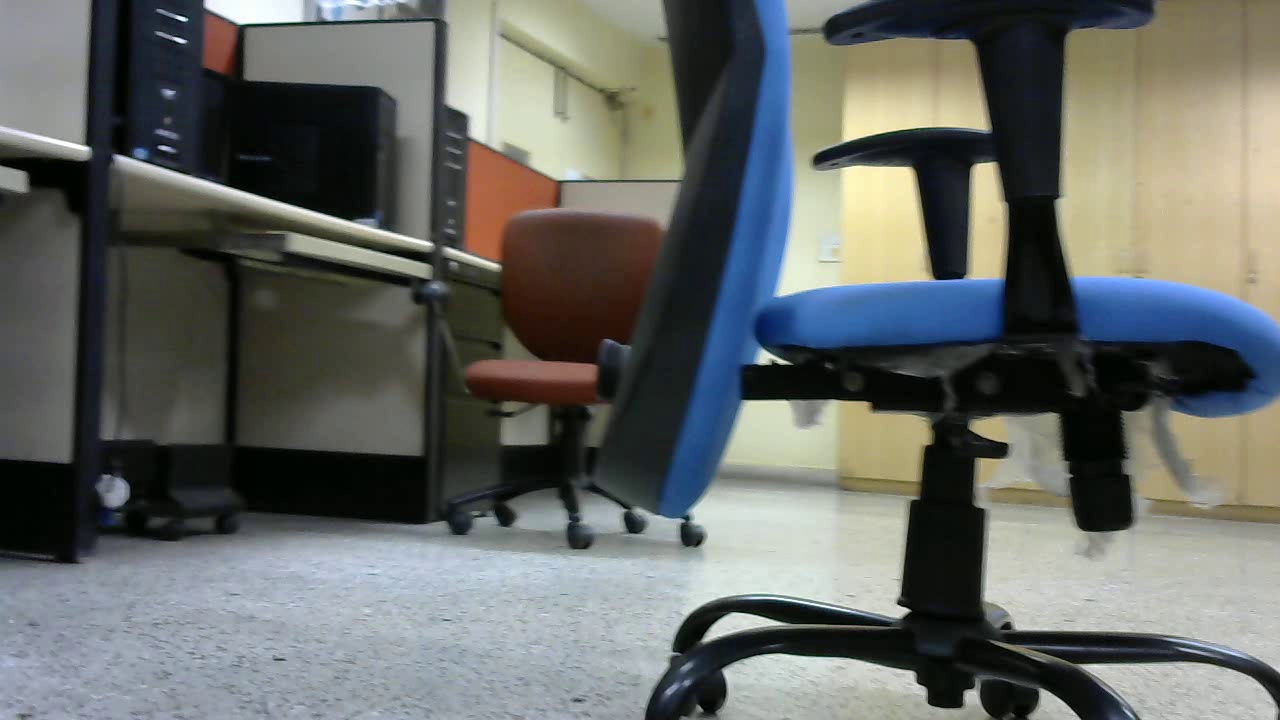chair: (602, 1, 1280, 720), (409, 209, 714, 555)
